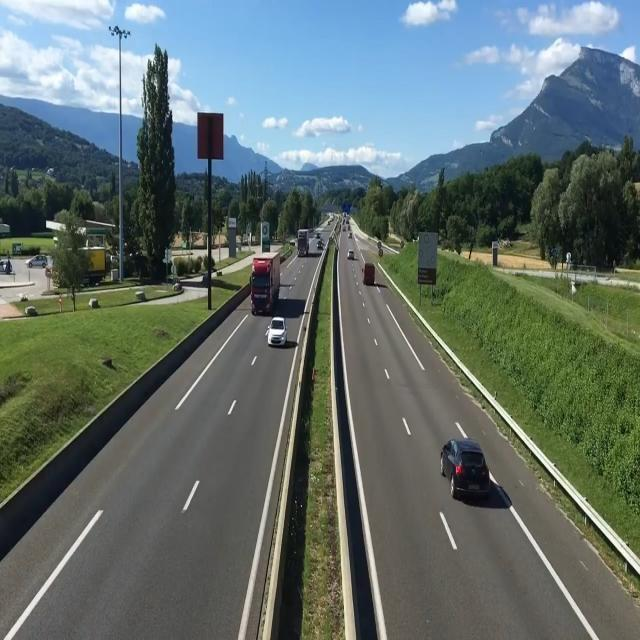Car: (438, 440, 492, 498), (267, 316, 287, 348), (346, 249, 356, 261)
Truck: (250, 250, 282, 317), (295, 228, 310, 259), (361, 262, 377, 286)
